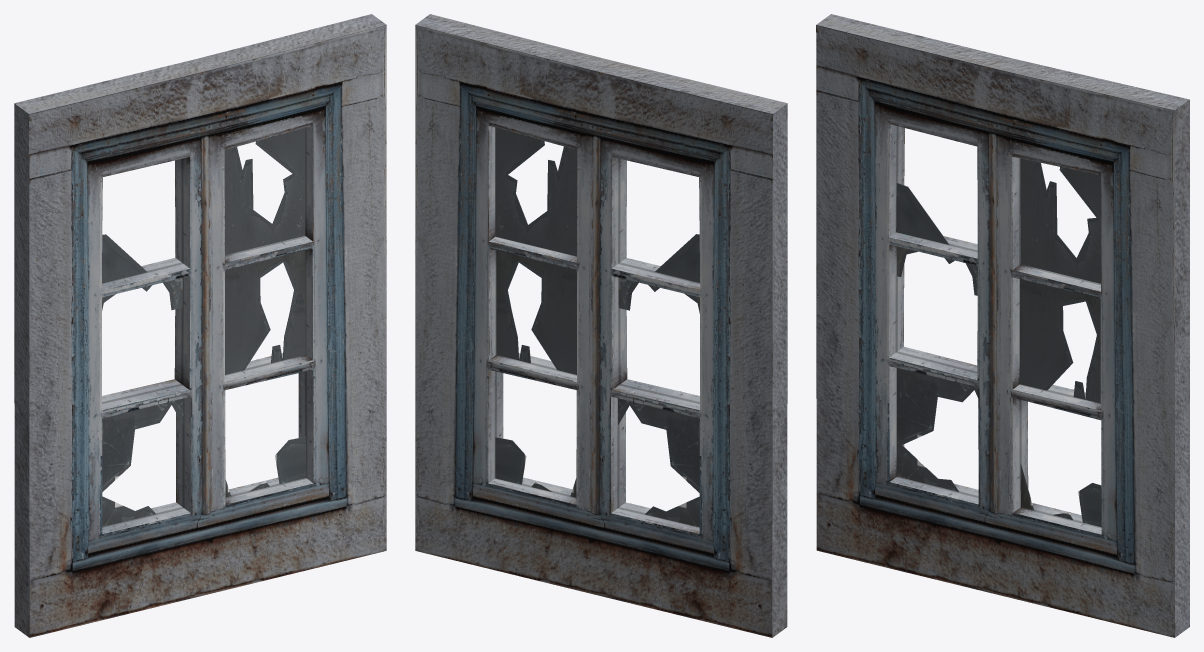
File: Windows_07_2.FBX
3 renders of one model, left to right at view 1: azimuth 30°, elevation 25°; view 2: azimuth 150°, elevation 25°; view 3: azimuth 330°, elevation 25°, orthographic.
Parts seen in each view (by area): view 1: Windows_07_2, Windows_07_2glass (×6); view 2: Windows_07_2, Windows_07_2glass (×6); view 3: Windows_07_2, Windows_07_2glass (×5).
Part boxes in pixels (x1,y1,x2,y2): Windows_07_2: [14, 14, 386, 637]; Windows_07_2glass (×6): [102, 128, 306, 526]; Windows_07_2: [415, 14, 787, 637]; Windows_07_2glass (×6): [495, 127, 699, 527]; Windows_07_2: [816, 14, 1189, 637]; Windows_07_2glass (×5): [896, 158, 1101, 527].
Bounding box in the file's own units: 131 × 9.46 × 184.
Materials: 2 (2 with a texture image).
